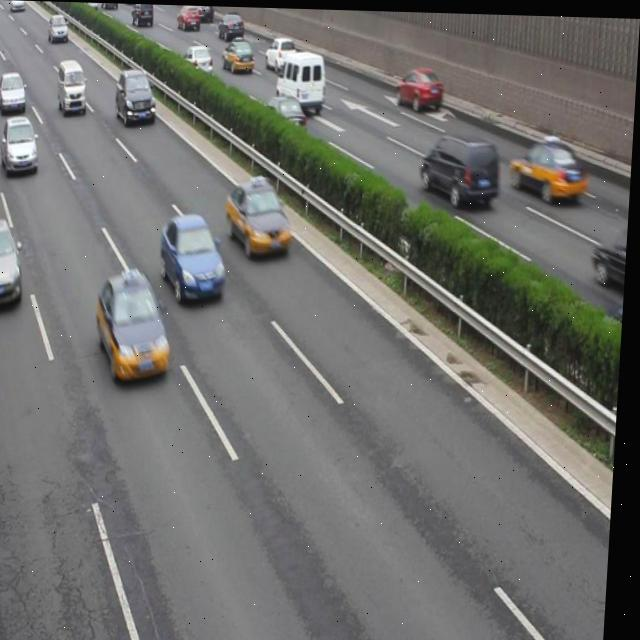car: (100, 272, 179, 387), (161, 215, 233, 306), (227, 176, 297, 260), (511, 131, 592, 202), (0, 222, 29, 316), (115, 67, 160, 126), (1, 116, 42, 175), (396, 65, 445, 112), (262, 94, 310, 133), (222, 37, 256, 72), (0, 71, 28, 112), (265, 33, 296, 69), (182, 43, 213, 72), (216, 12, 243, 39), (176, 4, 201, 31), (48, 12, 70, 40), (131, 3, 155, 26), (190, 4, 213, 20), (101, 2, 118, 11), (82, 2, 97, 8)
truck: (421, 132, 503, 205), (277, 48, 328, 109), (57, 57, 89, 116)
